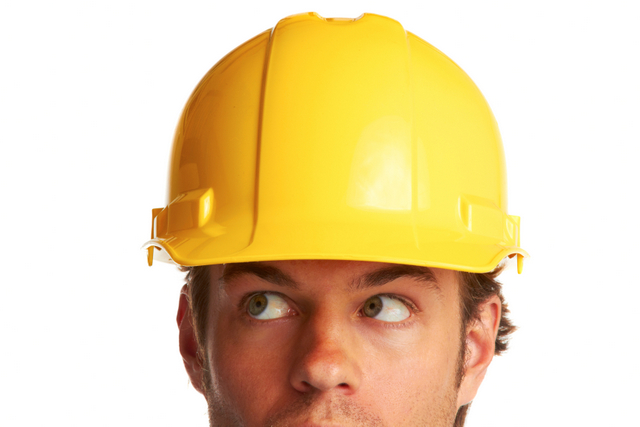Person_wearing_helmet: (142, 0, 540, 327)
